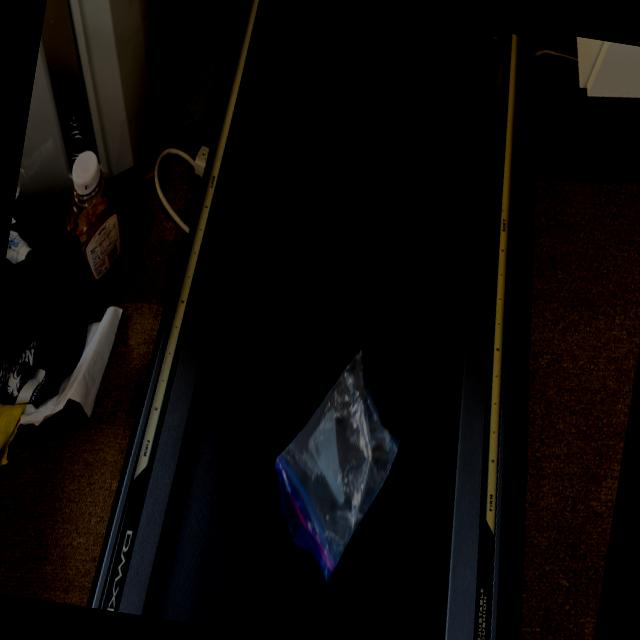Trash: (256, 334, 416, 589)
